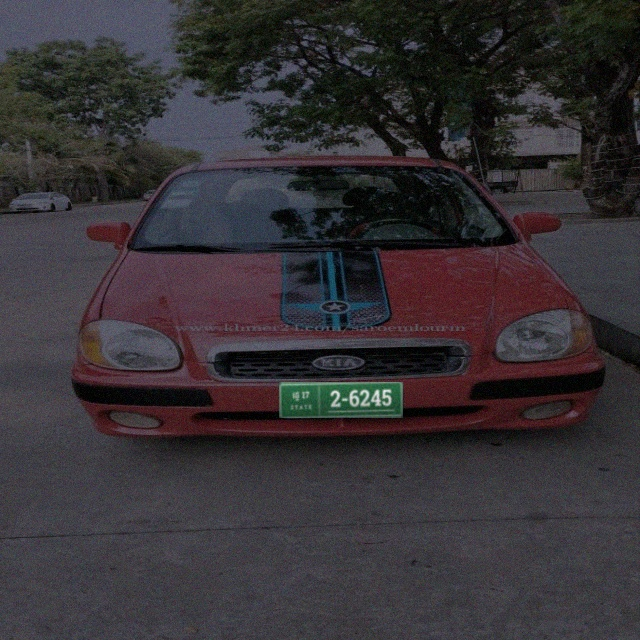Plate Number: (280, 382, 404, 419)
